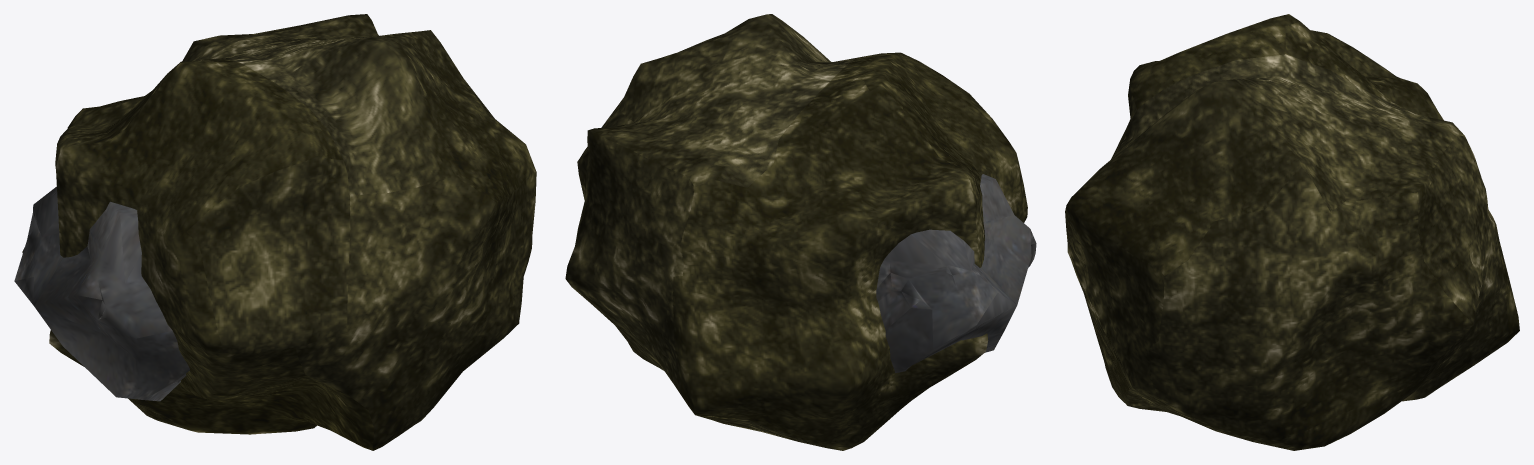
Rendered from asteroid_02.fbx.
The picture shows the model from 3 angles, left to right: view 1: azimuth 30°, elevation 25°; view 2: azimuth 150°, elevation 25°; view 3: azimuth 270°, elevation 25°; orthographic projection. The views are drawn at different scales.
Visible parts, largest first — view 1: Aster_Small_6_, Asteroid_3_LOW_MODEL_; view 2: Aster_Small_6_, Asteroid_3_LOW_MODEL_; view 3: Aster_Small_6_.
Boxes of the visible parts, x1,y1,x2,y2 form: Aster_Small_6_: (22, 14, 536, 450); Asteroid_3_LOW_MODEL_: (14, 186, 189, 401); Aster_Small_6_: (565, 14, 1027, 450); Asteroid_3_LOW_MODEL_: (876, 174, 1036, 372); Aster_Small_6_: (1065, 14, 1519, 450).
Bounding box in the file's own units: 119 × 98.94 × 108.
